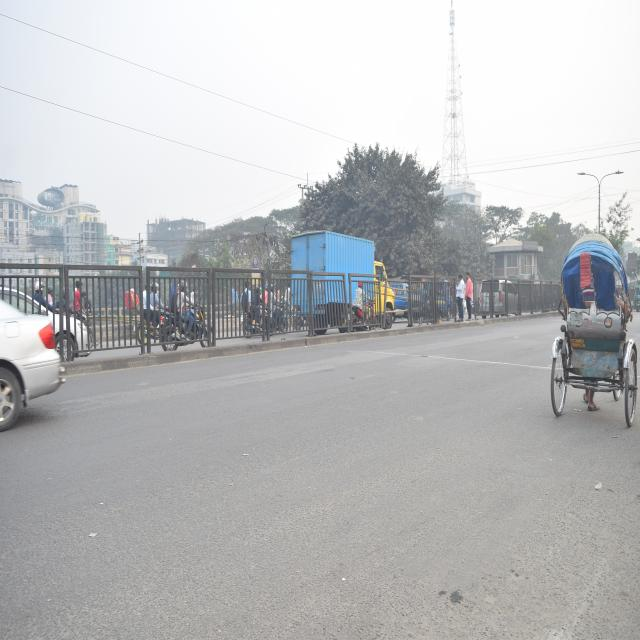car: (0, 282, 93, 424), (479, 276, 522, 320)
motorbike: (158, 292, 214, 356)
pickup-van: (288, 230, 394, 331)
